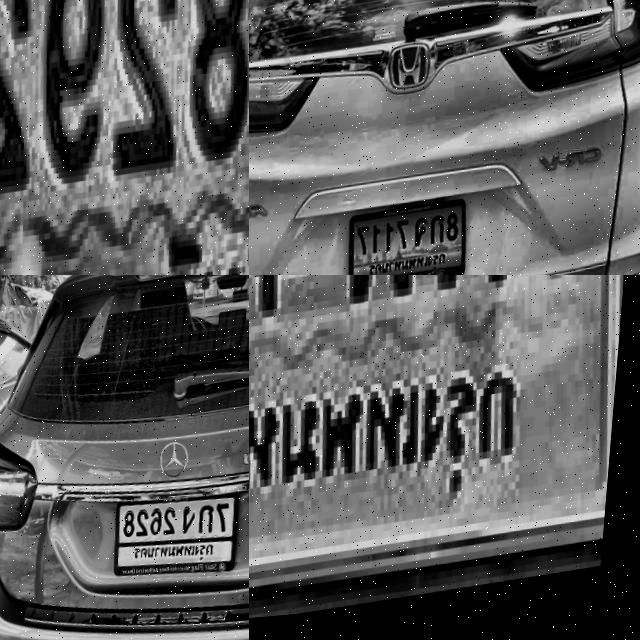license-plate: (249, 275, 640, 640), (0, 0, 249, 275), (111, 488, 249, 598), (346, 200, 477, 275)
